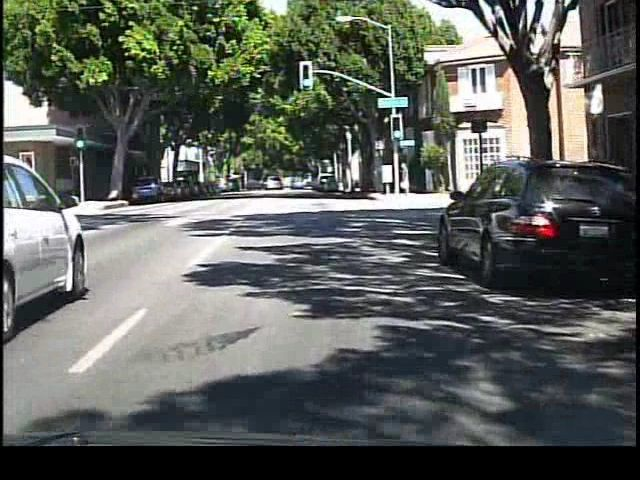person: (397, 157, 416, 199)
